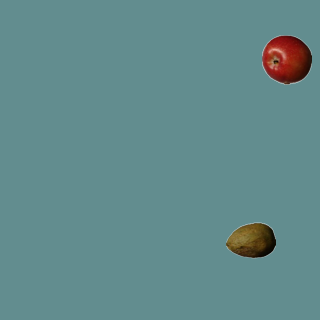Apple Braeburn: (261, 34, 311, 84)
Papaya: (225, 215, 275, 265)
